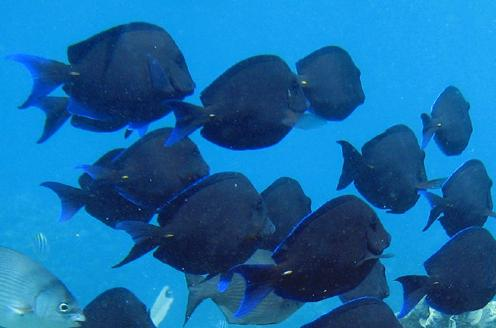Acanthuridae -Surgeonfishes-: (230, 187, 388, 324), (106, 168, 272, 283), (2, 24, 202, 119), (159, 52, 312, 149), (333, 116, 439, 218), (388, 222, 496, 320), (271, 44, 373, 120), (418, 155, 496, 240), (410, 72, 482, 156)
